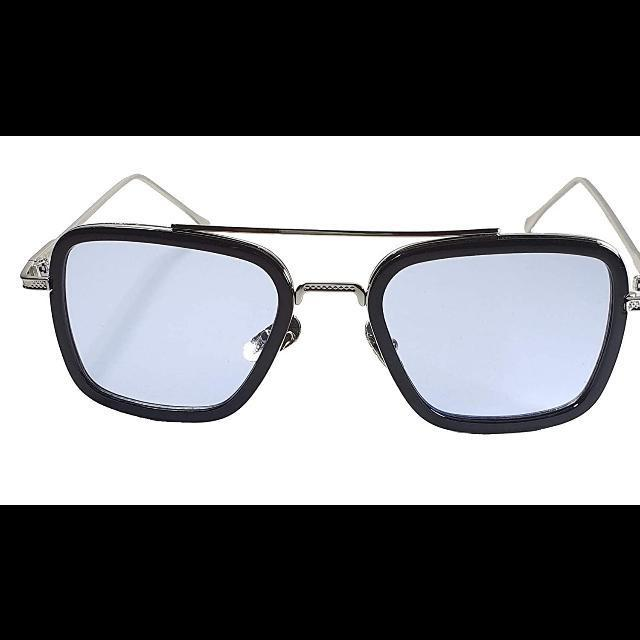sunglasses: (22, 172, 640, 436)
